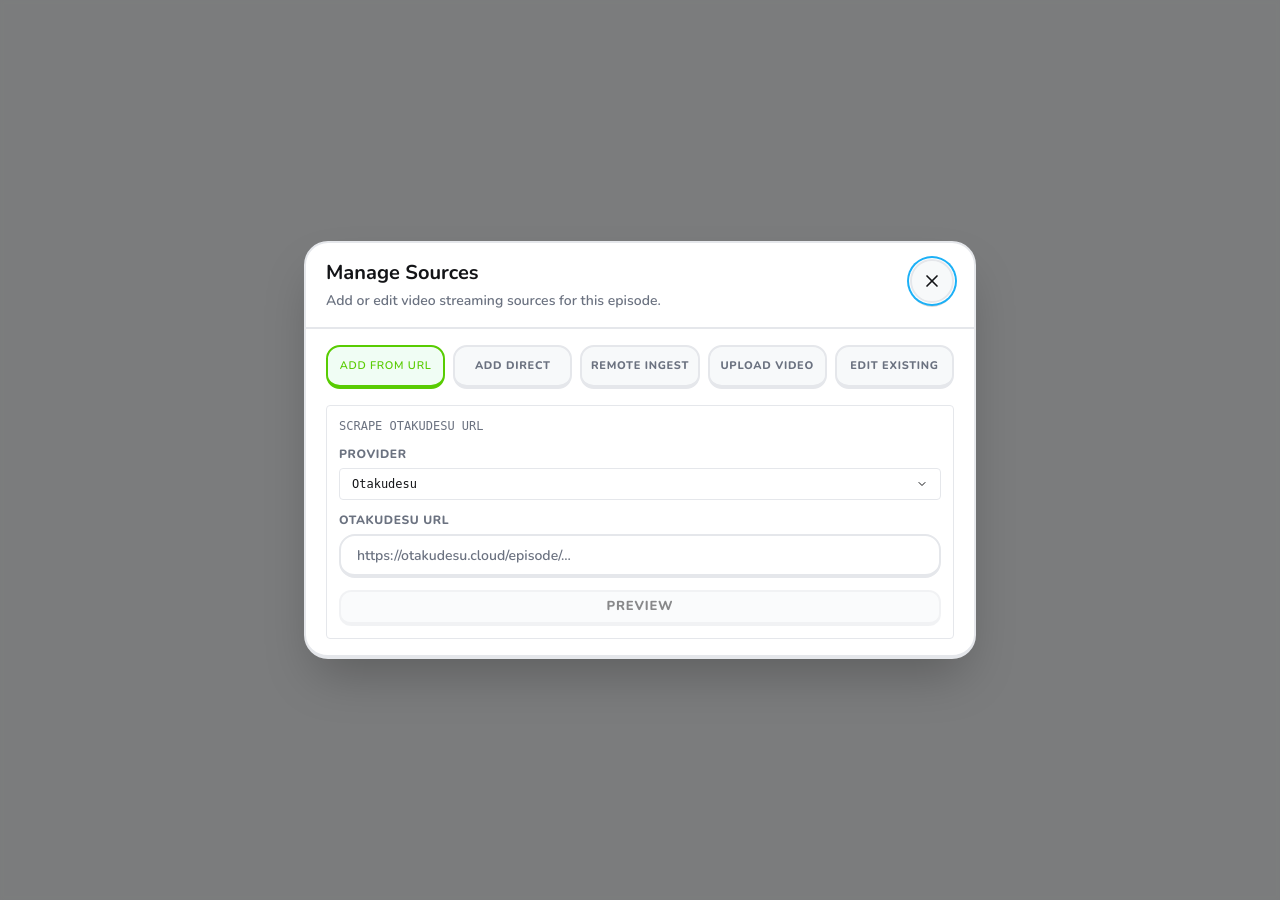
Test: ManageSourcesDialog component › renders the "Upload Video" tab in the tabs list
This screenshot has width=1280, height=900.
Click the tab "Upload Video". click: (767,367)
box: left=708, top=345, right=827, bottom=389
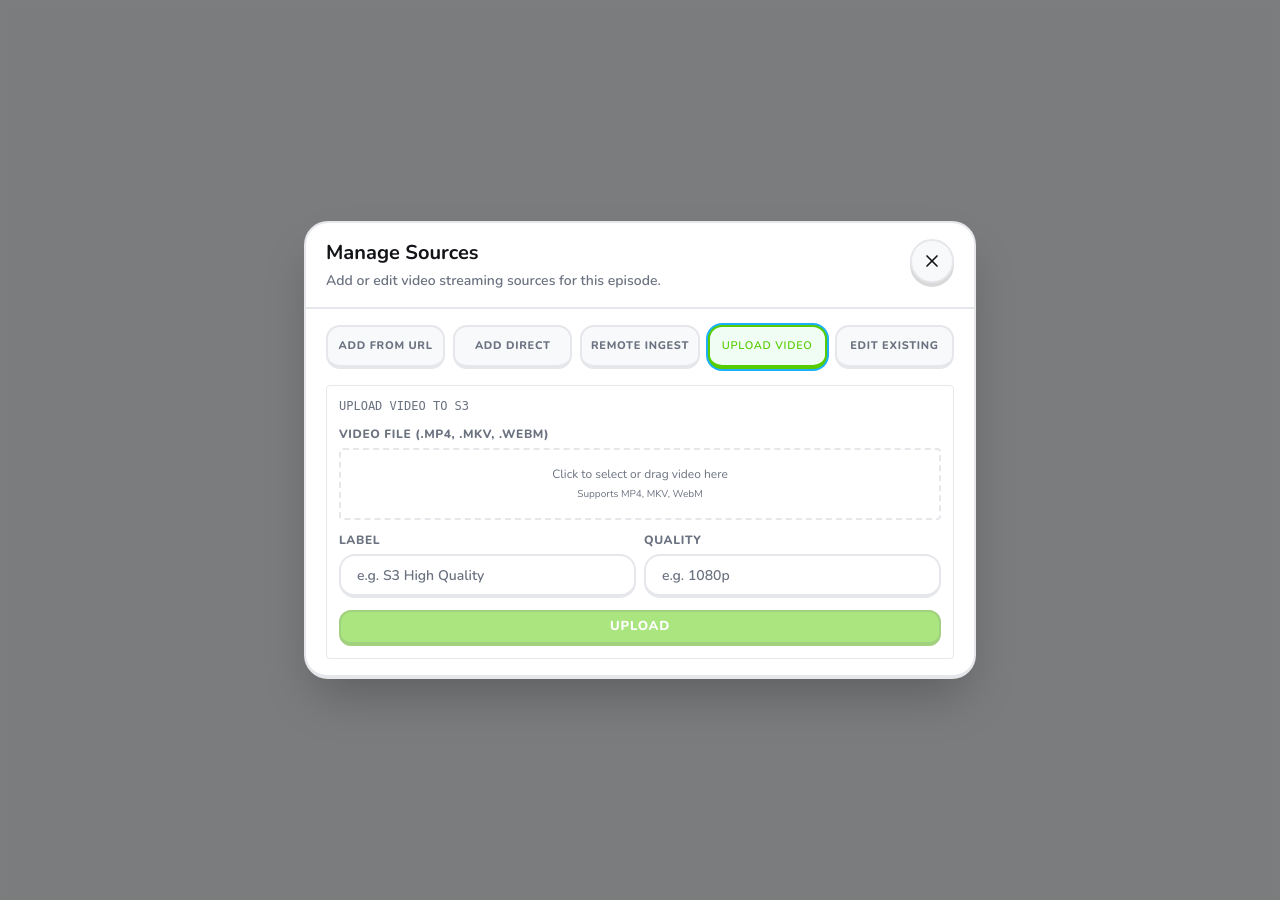
Check: the text "Upload Video to S3" is shown, box left=339, top=399, right=469, bottom=413
Check: the text "Click to select or drag video here" is shown, box left=552, top=466, right=728, bottom=482
